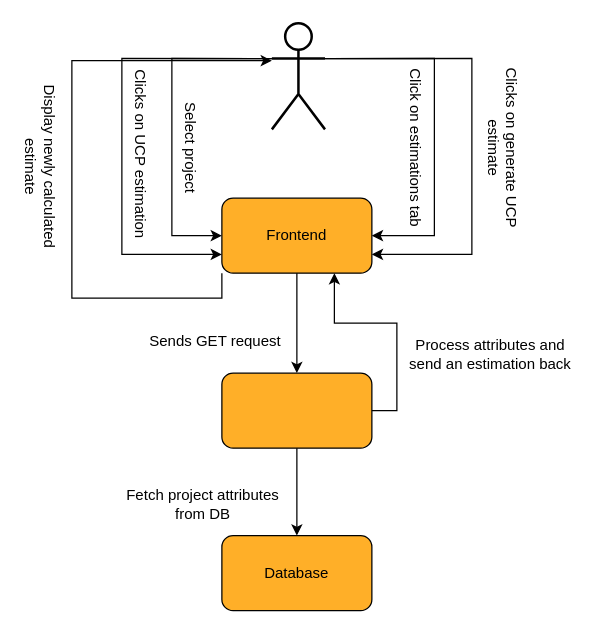
Image size: 605x633. Some labels were removed from this diagram. Here are the shapes that lost their labels. From the top down, the box of each, then its label:
(270, 21, 326, 130): Manager
(221, 372, 372, 448): REST API
